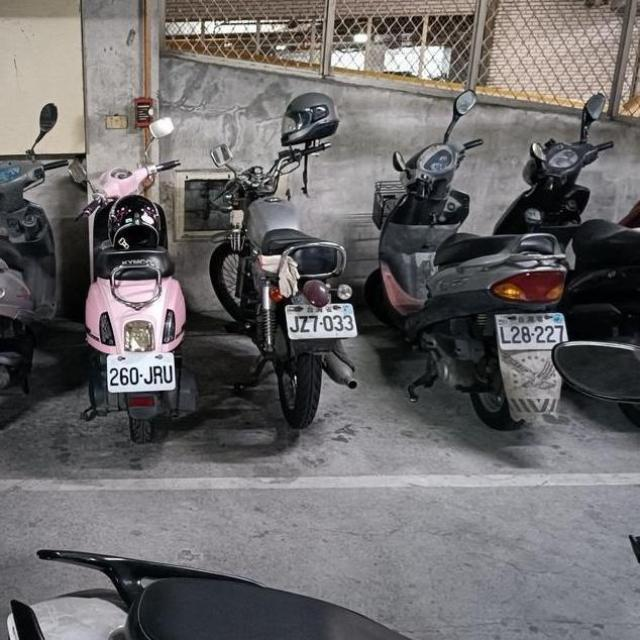W: (491, 305, 570, 355), (104, 348, 178, 395), (283, 297, 358, 342)
